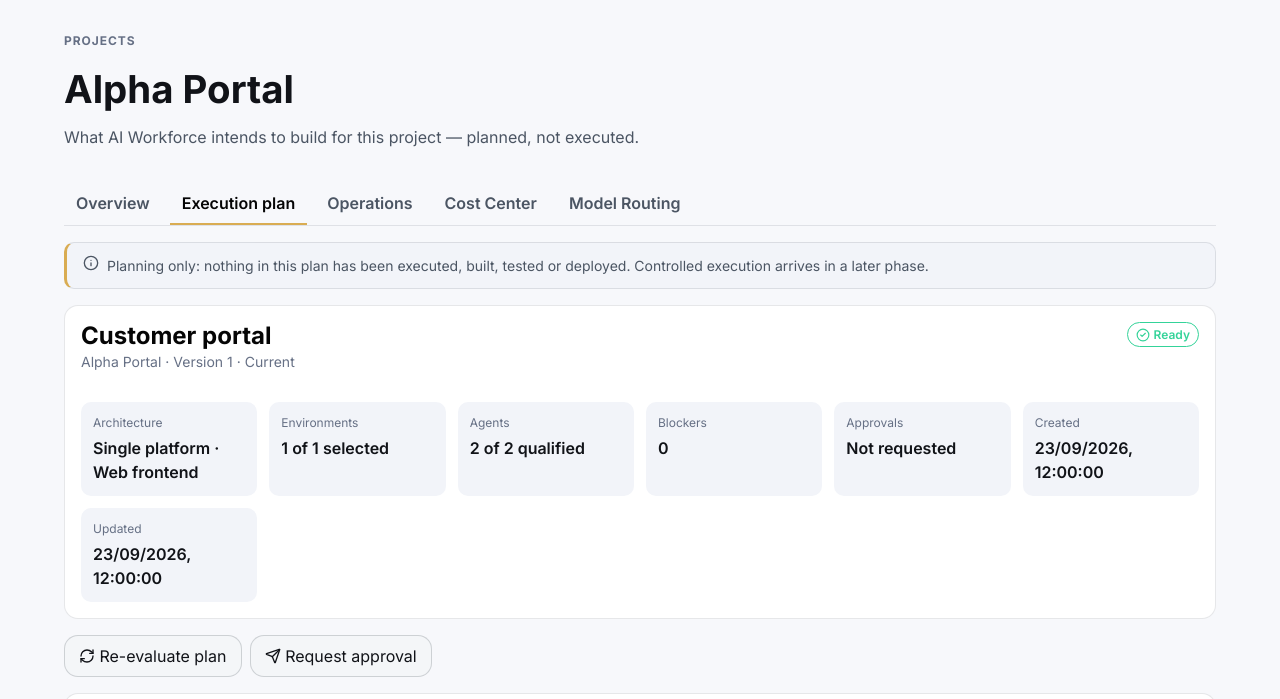
Test: Project Detail → Execution Plan › stale revision: a 409 is reported as a conflict, not applied to the newer plan
This screenshot has width=1280, height=699.
Click the button "Request approval" at (341, 656), box [250,635,432,677]
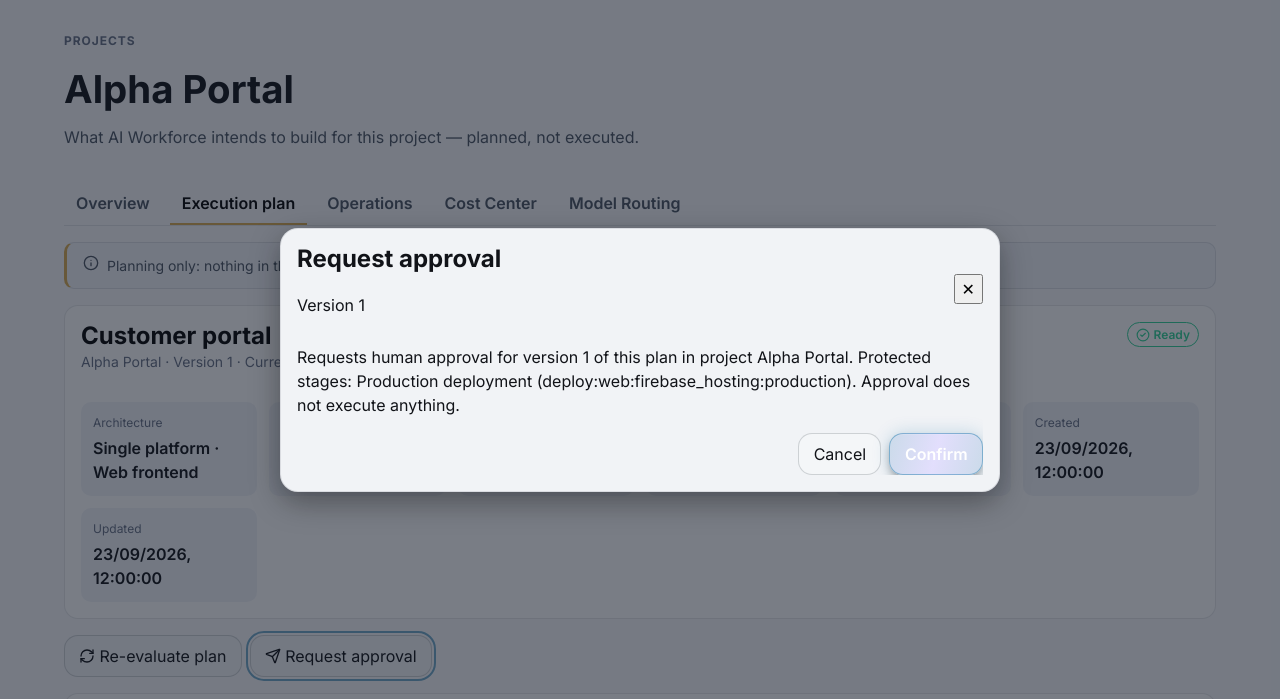
Expected: the text "Production deployment" is shown, [297,347,970,415]
Click the button "Confirm" at (936, 454), box [890,433,983,475]
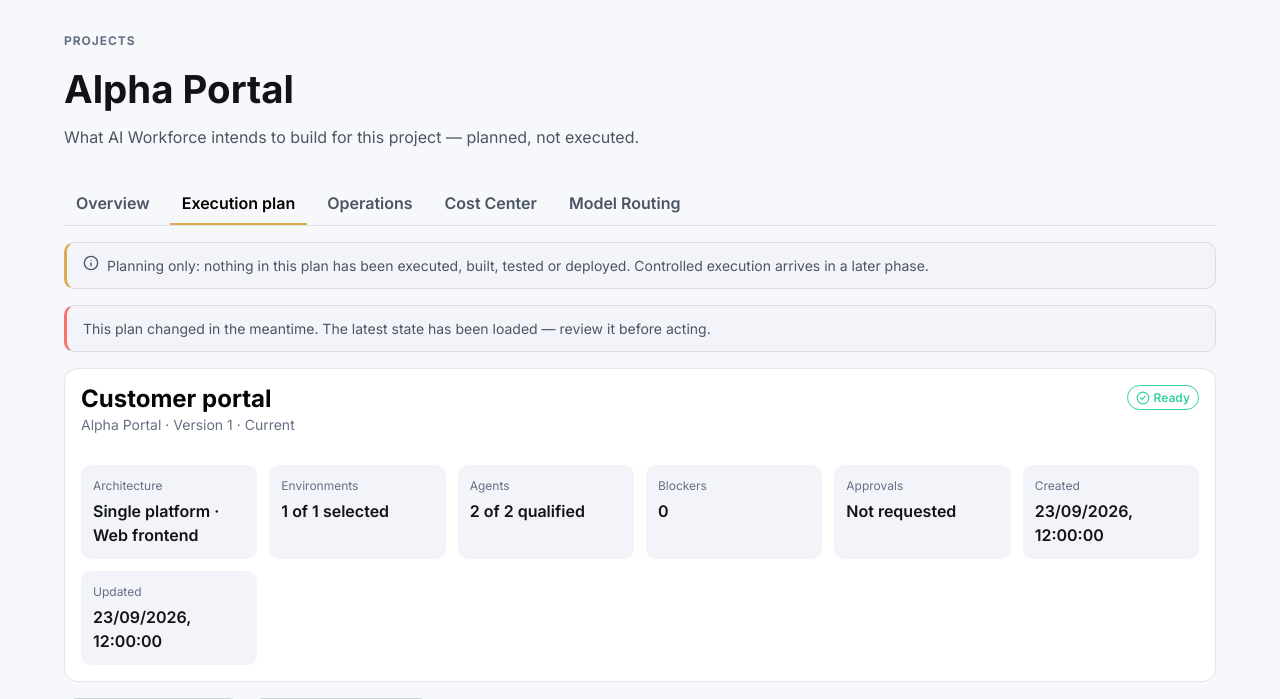
Expected: the text "This plan changed in the meantime" is shown, [83,320,711,337]
